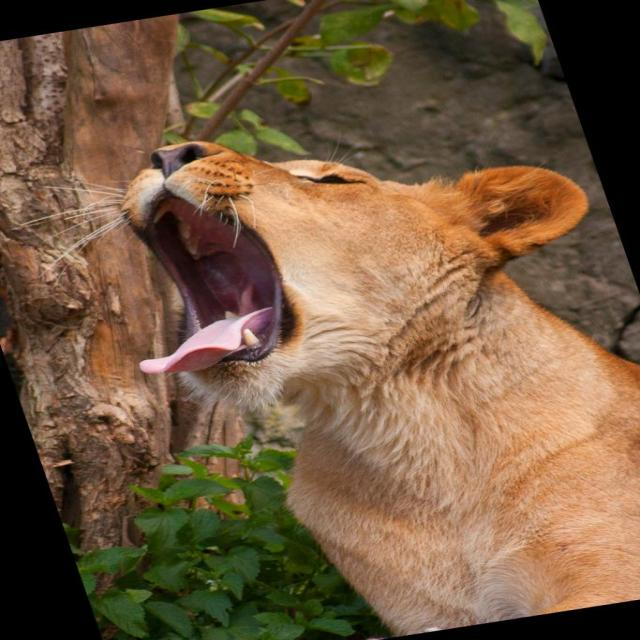Lion: (0, 83, 639, 639)
